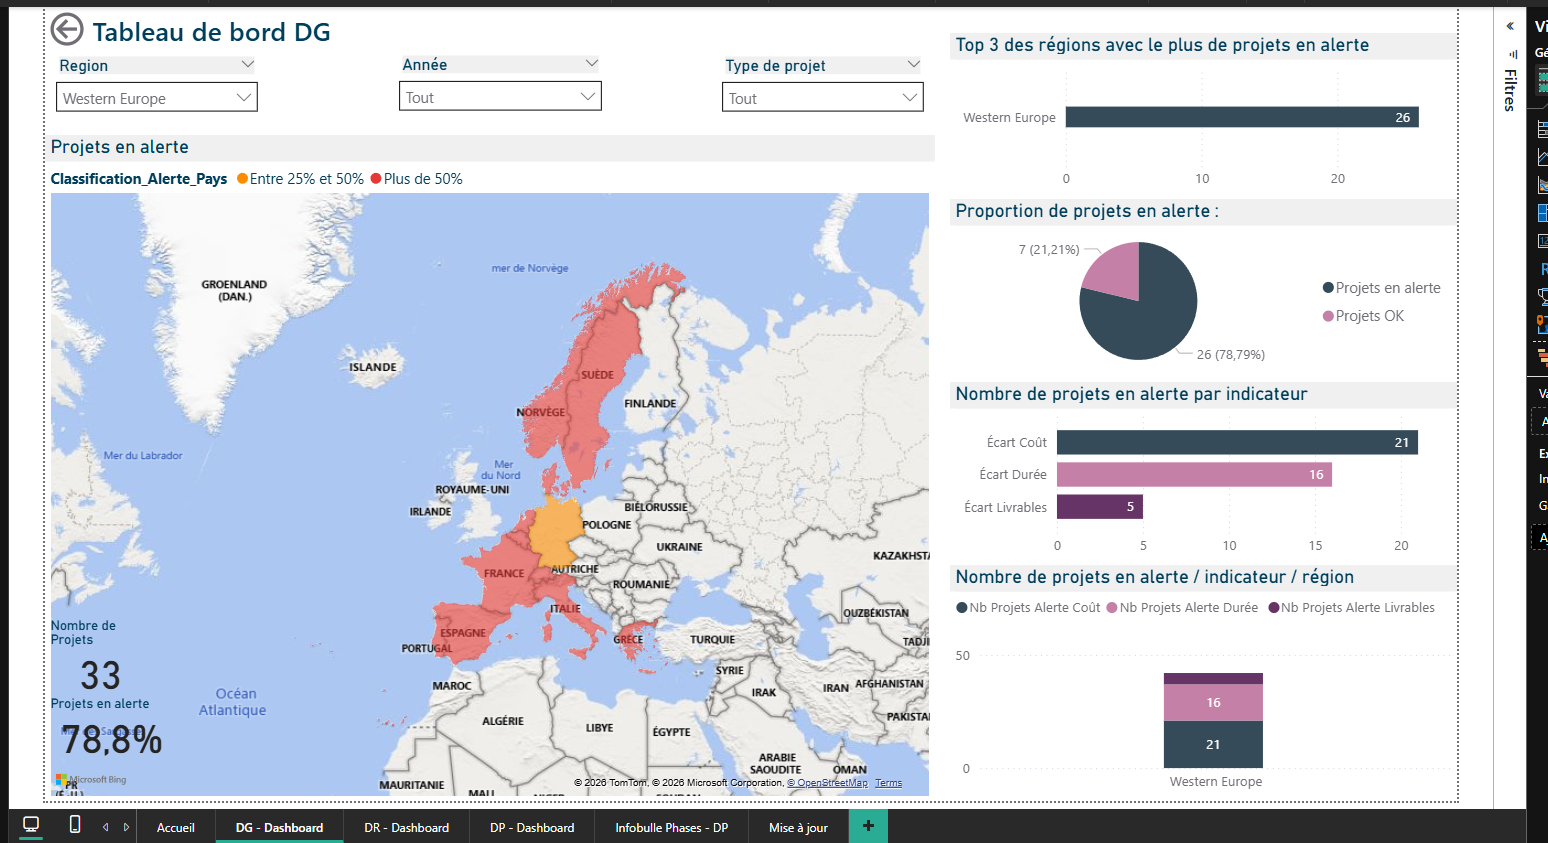

Layout of this report page (visuals, bound fields, positions):
{"tool":"powerbi","page":{"name":"DG - Dashboard","canvas":[1280,720],"ordinal":1},"visuals":[{"type":"textbox","box":[37.9,0,375.4,66.1],"z":0},{"type":"actionButton","box":[0,0,100,40],"z":1000},{"type":"slicer","fields":{"Values":["Country_Profiles.Region"]},"box":[0,39.9,203.1,75.3],"z":2000},{"type":"slicer","fields":{"Values":["Calendar.Année"]},"box":[311,39,204,75.3],"z":3000},{"type":"slicer","fields":{"Values":["Project type.Project_Type"]},"box":[603.9,39.9,203.1,74.4],"z":5000},{"type":"pieChart","title":"Proportion de projets en alerte :","fields":{"Y":["Mesures_DG.Nb_Projets_En_Alerte_DG","Mesures_DG.Nb_Projets_OK_DG"]},"box":[820.3,173.9,459.7,166],"z":6000},{"type":"columnChart","title":"Nombre de projets en alerte / indicateur / région","fields":{"Category":["Synthese_Projets.Region"],"Y":["Mesures_DG.Nb_Projets_Alerte_Cout_DG","Mesures_DG.Nb_Projets_Alerte_Duree_DG","Mesures_DG.Nb_Projets_Alerte_Livrables_DG"]},"box":[820.3,505.9,459.7,214.2],"z":7000},{"type":"clusteredBarChart","title":"Nombre de projets en alerte par indicateur","fields":{"Y":["Critere_Alertes.Nb_Projets_Par_Critere_Alarme_DG"],"Category":["Critere_Alertes.Critere"]},"box":[820.3,339.9,459.7,166],"z":10000},{"type":"clusteredBarChart","title":"Top 3 des régions avec le plus de projets en alerte","fields":{"Y":["Mesures_DG.Projets en alerte"],"Category":["Synthese_Projets.Region"]},"box":[820.3,23.6,459.7,150.3],"z":11000},{"type":"filledMap","title":"Projets en alerte","fields":{"Category":["Synthese_Pays.Country"],"Series":["Synthese_Pays.Classification_Alerte_Pays"]},"box":[0,115.9,807.5,604.1],"z":11500},{"type":"card","title":"Projets en alerte","fields":{"Values":["Mesures_DG.Pct_Projets_En_Alerte_DG"]},"box":[0,624.8,120.8,58.9],"z":11750},{"type":"card","title":"Nombre de Projets","fields":{"Values":["Mesures_DG.Nb_Projets_DG"]},"box":[0,554,101.2,70.7],"z":12000}]}

Visuals, with their boxes on the page's 1280x720 design canvas (x1, y1, x2, y2). These are canvas units, not pixel positions in the 1548x843 screenshot, which may show the page scaled, cropped or inside an application window:
textbox: {"left": 38, "top": 0, "right": 413, "bottom": 66}
actionButton: {"left": 0, "top": 0, "right": 100, "bottom": 40}
slicer - Country_Profiles.Region: {"left": 0, "top": 40, "right": 203, "bottom": 115}
slicer - Calendar.Année: {"left": 311, "top": 39, "right": 515, "bottom": 114}
slicer - Project type.Project_Type: {"left": 604, "top": 40, "right": 807, "bottom": 114}
"Proportion de projets en alerte :" pieChart: {"left": 820, "top": 174, "right": 1280, "bottom": 340}
"Nombre de projets en alerte / indicateur / région" columnChart: {"left": 820, "top": 506, "right": 1280, "bottom": 720}
"Nombre de projets en alerte par indicateur" clusteredBarChart: {"left": 820, "top": 340, "right": 1280, "bottom": 506}
"Top 3 des régions avec le plus de projets en alerte" clusteredBarChart: {"left": 820, "top": 24, "right": 1280, "bottom": 174}
"Projets en alerte" filledMap: {"left": 0, "top": 116, "right": 808, "bottom": 720}
"Projets en alerte" card: {"left": 0, "top": 625, "right": 121, "bottom": 684}
"Nombre de Projets" card: {"left": 0, "top": 554, "right": 101, "bottom": 625}
